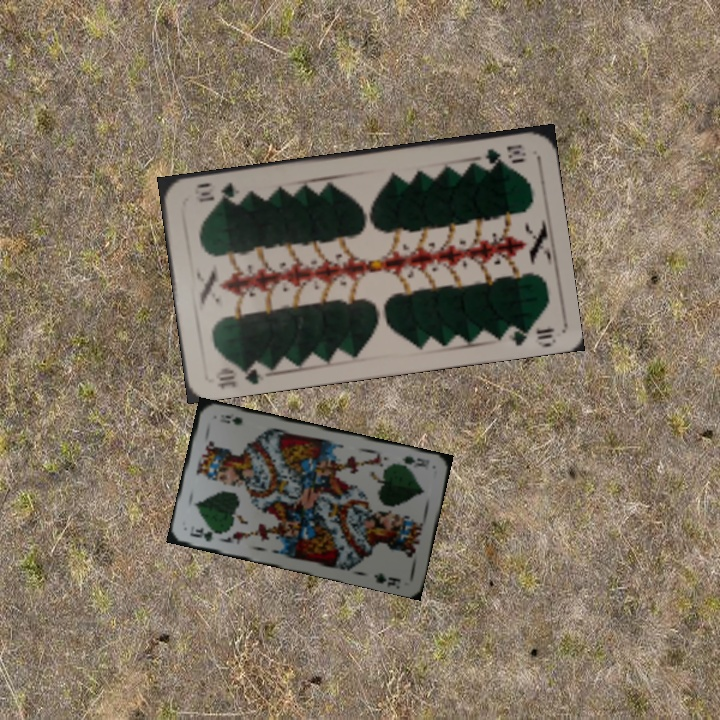G10: (211, 358, 267, 391), (481, 140, 528, 167)
GK: (185, 525, 224, 544), (393, 452, 432, 470)
